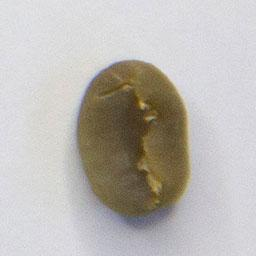premium: (72, 55, 194, 220)
